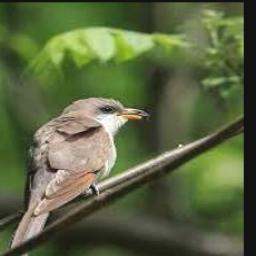Cuckoo: (4, 98, 148, 256)
